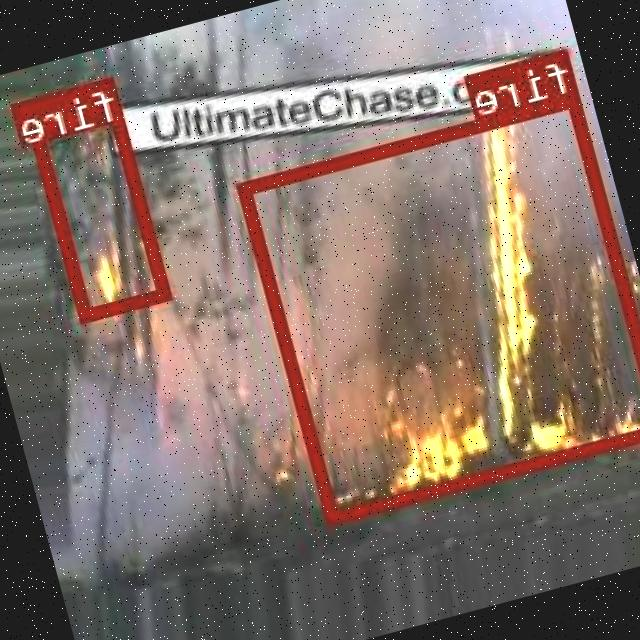fire: (238, 91, 640, 522), (25, 74, 172, 320)
